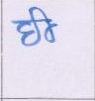i_matra: (33, 7, 56, 43)
